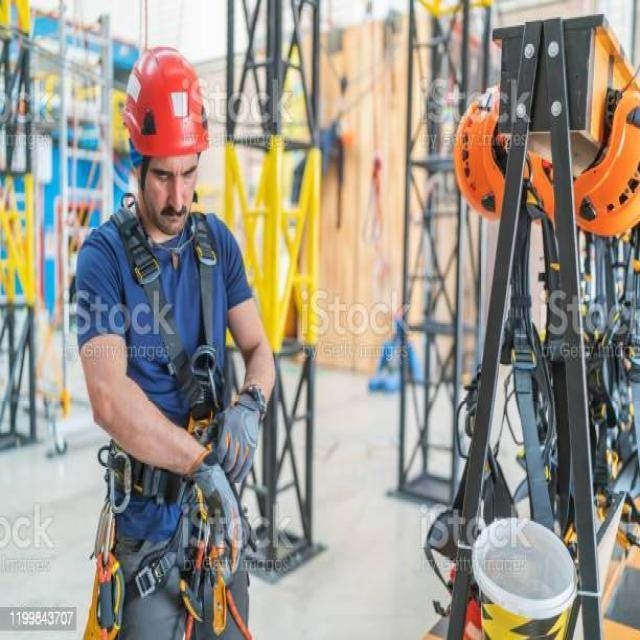Arnes_seguridad: (83, 196, 255, 603)
